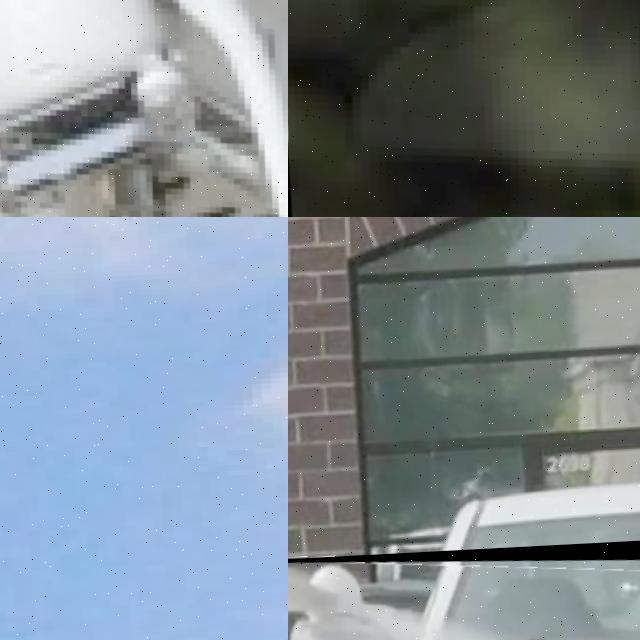drone: (288, 0, 640, 217), (0, 0, 288, 217), (288, 530, 640, 640)
